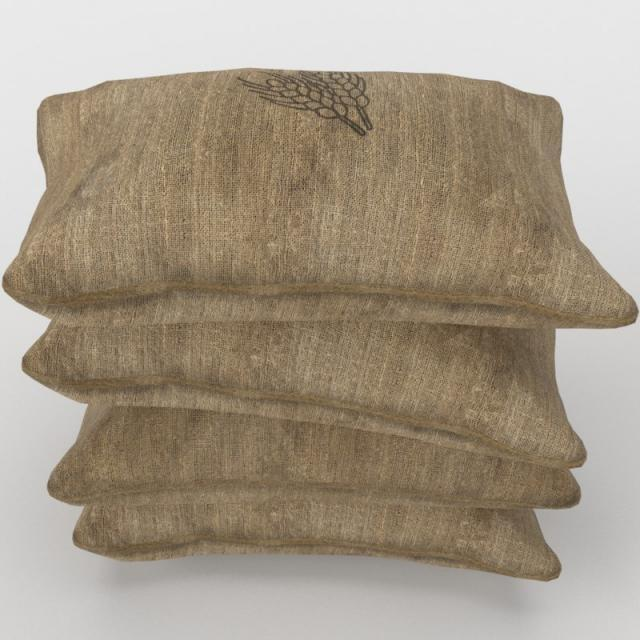gunny_bag: (11, 72, 638, 334), (21, 276, 595, 469), (44, 389, 600, 520), (71, 466, 566, 578)
